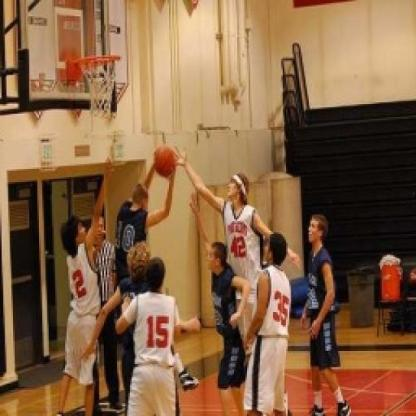basketball: (152, 145, 178, 177)
